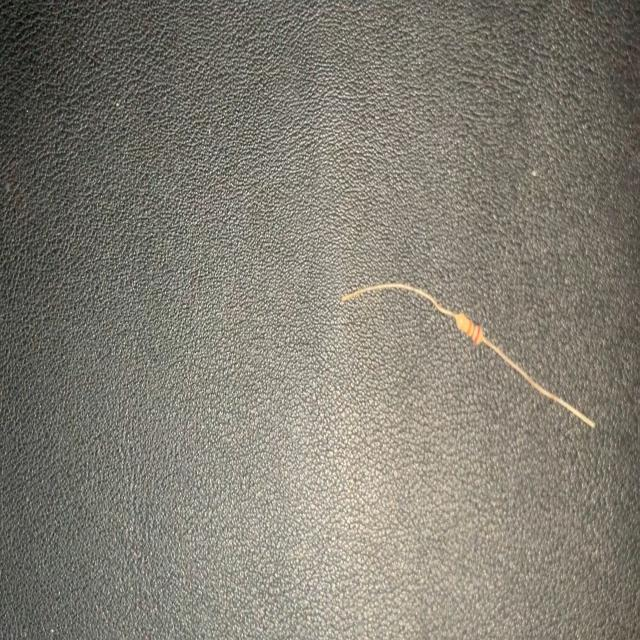resistor: (343, 287, 598, 431)
